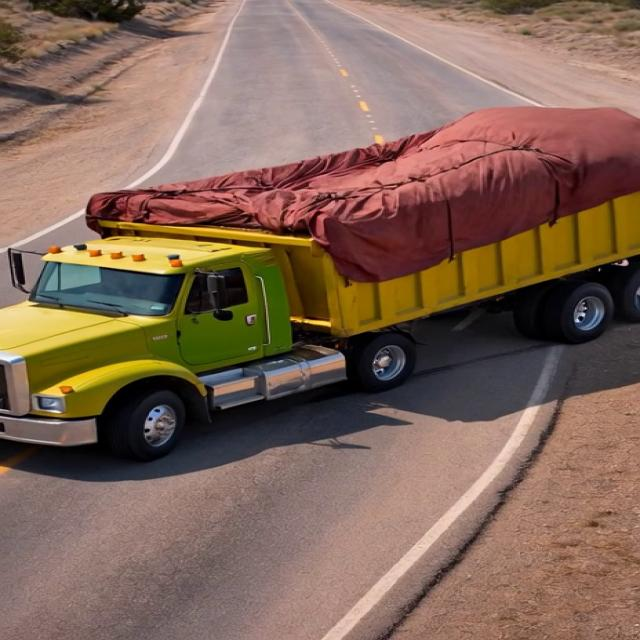trailer: (88, 108, 626, 241)
truck: (8, 77, 631, 470)
